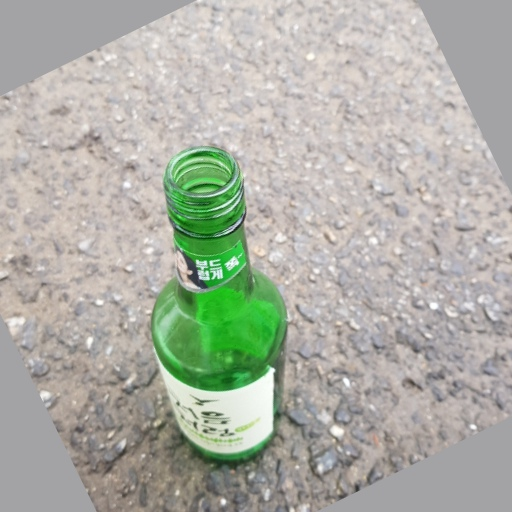Glass_0: (145, 140, 294, 466)
